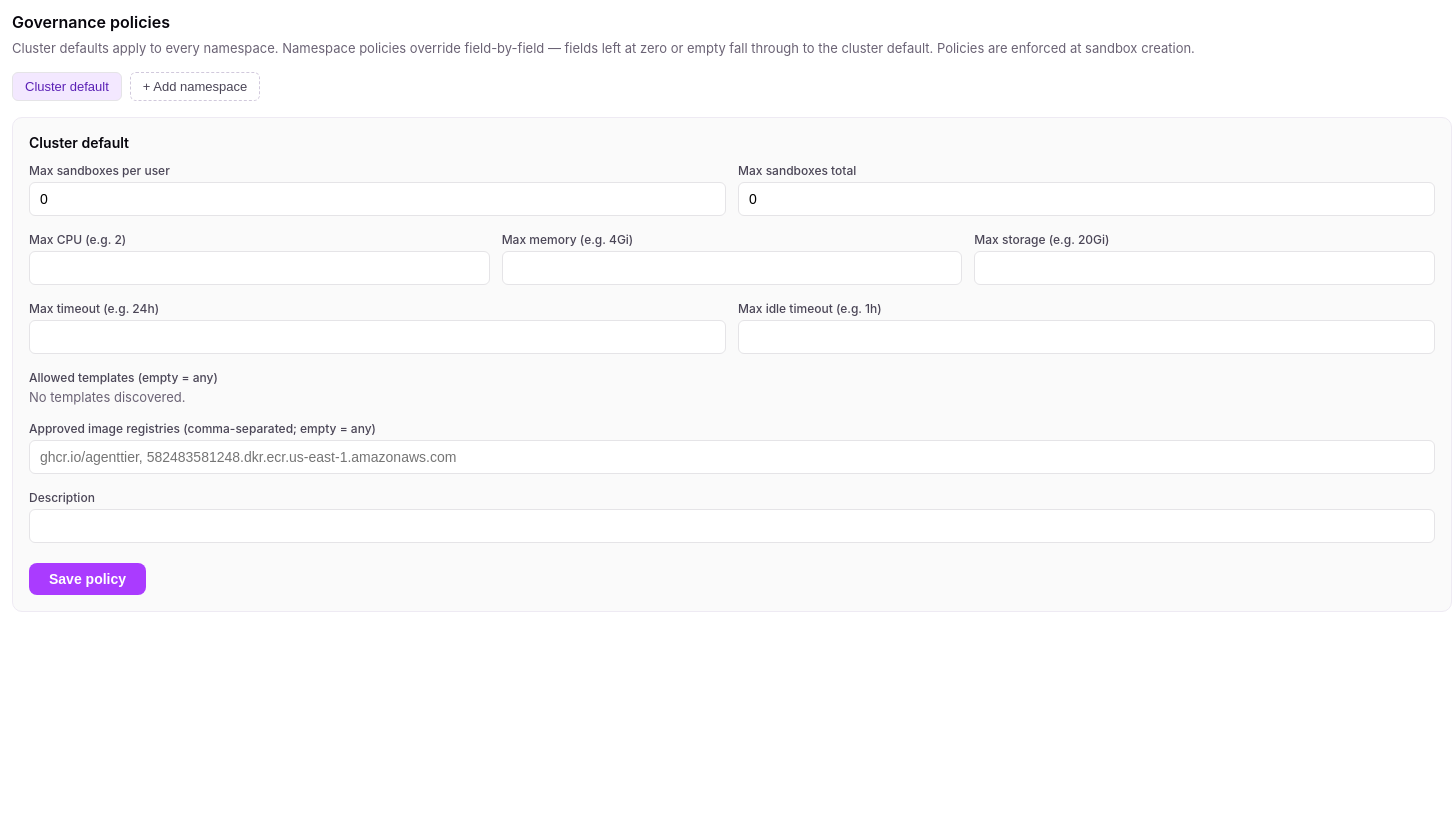
Test: GovernanceEditor › shows an error message when saving the cluster policy fails
Expected: the heading "Governance policies" is shown, [12,12,170,32]
Click the button "Save policy" at (88, 579), box [29,563,146,595]
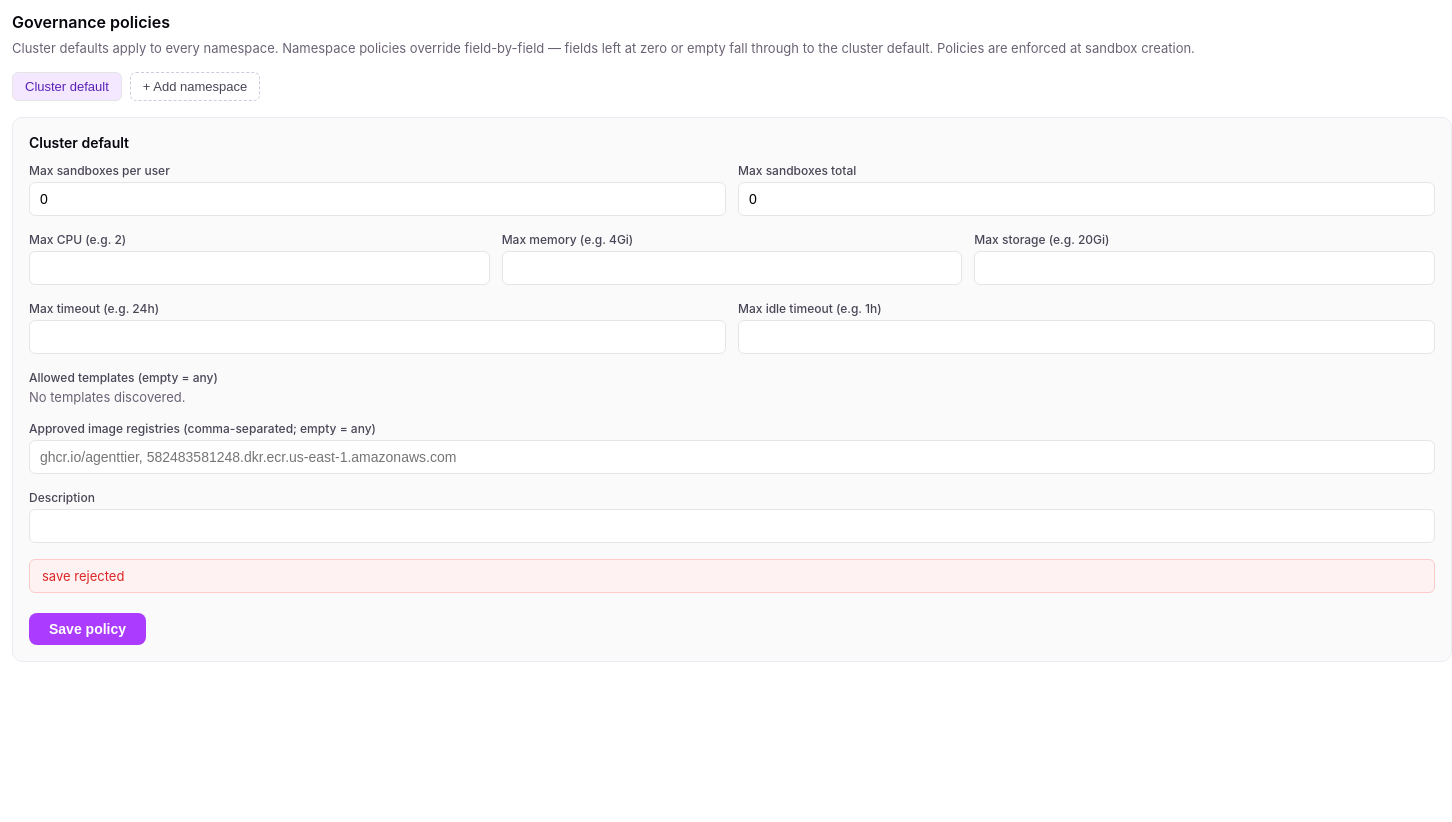
Expected: the text "save rejected" is shown, [29,559,1435,593]
